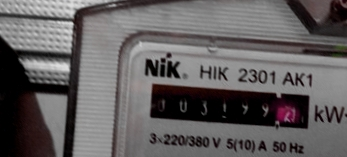0: (155, 93, 168, 113), (178, 94, 189, 113)
1: (220, 93, 230, 113)
3: (199, 97, 209, 116)
6: (282, 109, 293, 125)
9: (260, 100, 271, 119), (240, 97, 250, 115)
screen: (143, 74, 318, 140)
